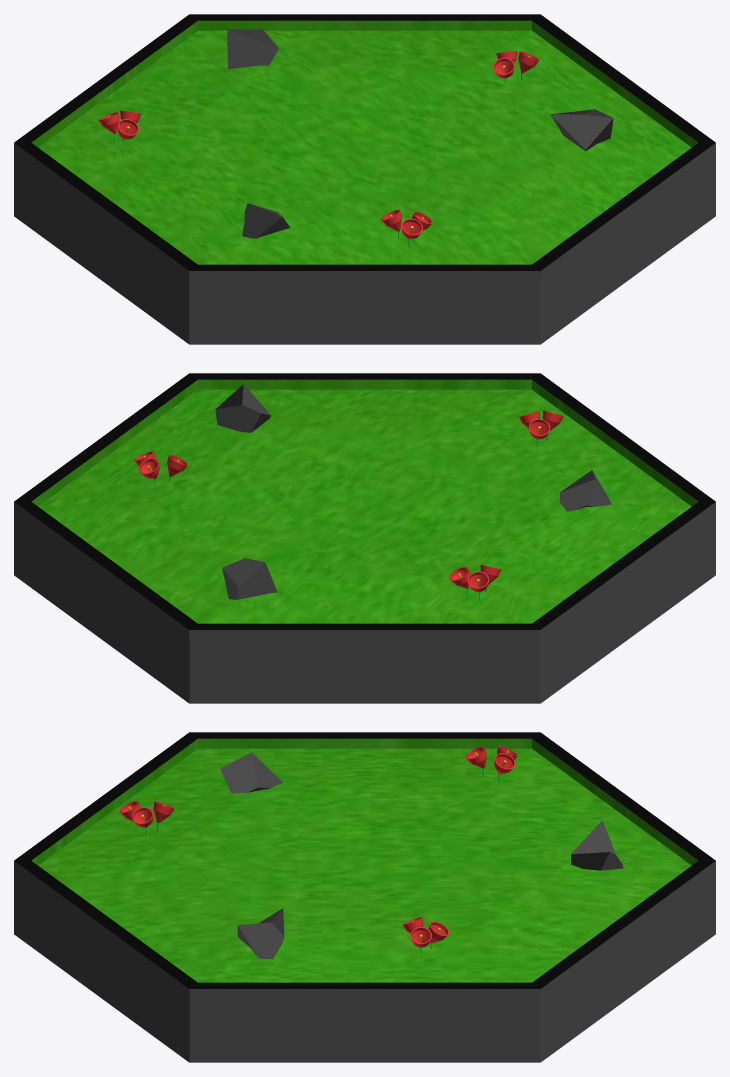
The model's file is FlowerRockHex.fbx.
3 views of the same model, one above another, from view 1: azimuth 30°, elevation 25°; view 2: azimuth 150°, elevation 25°; view 3: azimuth 270°, elevation 25° (orthographic).
Parts seen in each view (by area): view 1: Cylinder, Cube.001, Cube, Cube.002; view 2: Cylinder, Cube, Cube.001, Cube.002; view 3: Cylinder, Cube.002, Cube, Cube.001.
Part boxes in pixels (x1,y1,x2,y2): Cylinder: [14, 14, 715, 344]; Cube.001: [550, 109, 613, 151]; Cube: [227, 29, 278, 69]; Cube.002: [242, 203, 290, 238]; Cylinder: [14, 373, 715, 703]; Cube: [222, 558, 277, 599]; Cube.001: [215, 384, 271, 432]; Cube.002: [559, 470, 611, 511]; Cylinder: [14, 732, 715, 1062]; Cube.002: [220, 752, 283, 793]; Cube: [571, 820, 623, 870]; Cube.001: [237, 908, 284, 959].
Bounding box in the file's own units: 550 × 104 × 635.
33 materials, 1 textured.
